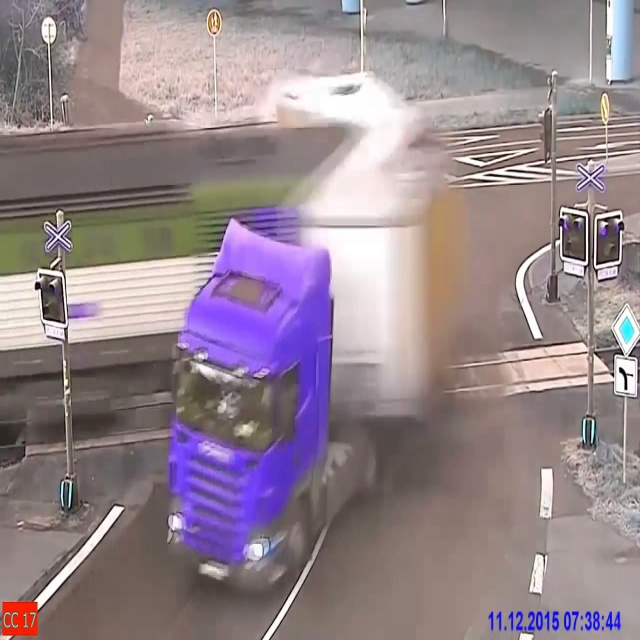acc: (254, 79, 445, 463)
